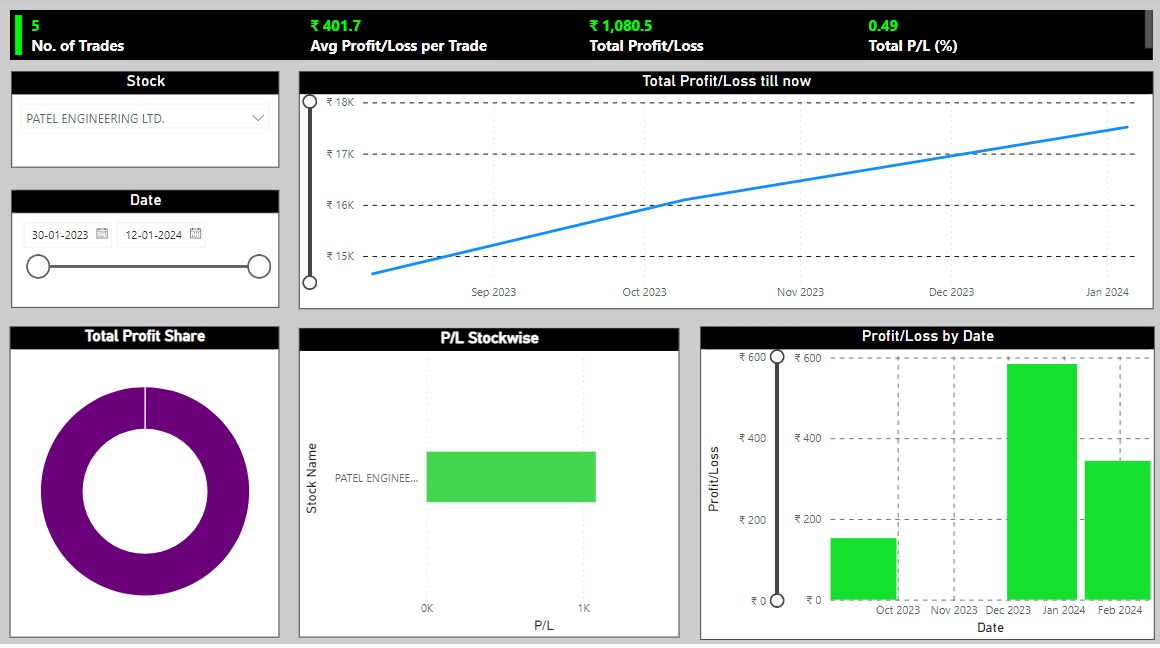

The dashboard page shown, as its layout file describes it:
{"tool":"powerbi","page":{"name":"Profit/Loss Analysis","canvas":[1280,720],"ordinal":1},"visuals":[{"type":"multiRowCard","fields":{"Values":["Sheet1.No of Trades","Sheet1.Avg profit/Loss per Trade","Sheet1.Total Realized Profit/Loss","Sum(Sheet1.Realised P/L (%))"]},"box":[25.1,16.1,1236.9,53.7],"z":0},{"type":"lineChart","title":"Total Profit/Loss till now","fields":{"Category":["Sheet1.DATE"],"Y":["Sheet1.CumulativeProfitLoss"]},"box":[337.5,82.1,925,257.1],"z":1000},{"type":"donutChart","title":"Total Profit Share","fields":{"Category":["Sheet1.Scrip Name"],"Y":["Sum(Sheet1.Realised P/L (%))","Sum(Sheet1.Realized P/L)"]},"box":[24.5,359.2,291.8,336.7],"z":2000},{"type":"slicer","title":"Stock","fields":{"Values":["Sheet1.Scrip Name"]},"box":[26.9,82.3,290,103.8],"z":3000},{"type":"slicer","title":"Date","fields":{"Values":["Sheet1.DATE"]},"box":[26.9,211.2,290,127.1],"z":4000},{"type":"clusteredColumnChart","title":"Profit/Loss by Date","fields":{"Category":["Sheet1.Sell date"],"Y":["Sheet1.Total Realized Profit/Loss"]},"box":[771.4,359.2,491.8,338.8],"z":5000},{"type":"clusteredBarChart","title":"P/L Stockwise","fields":{"Category":["Sheet1.Scrip Name"],"Y":["Sum(Sheet1.Realized P/L)"]},"box":[336.7,359.2,412.2,334.7],"z":6000}]}

Visuals, with their boxes in screenshot pixels (x1, y1, x2, y2), scaled from the page's 1280x720 canvas onto the 1160x648 screenshot:
multiRowCard - Sheet1.No of Trades x Sheet1.Avg profit/Loss per Trade: detection(23, 14, 1144, 63)
"Total Profit/Loss till now" lineChart: detection(306, 74, 1144, 305)
"Total Profit Share" donutChart: detection(22, 323, 287, 626)
"Stock" slicer: detection(24, 74, 287, 167)
"Date" slicer: detection(24, 190, 287, 304)
"Profit/Loss by Date" clusteredColumnChart: detection(699, 323, 1145, 628)
"P/L Stockwise" clusteredBarChart: detection(305, 323, 679, 625)
